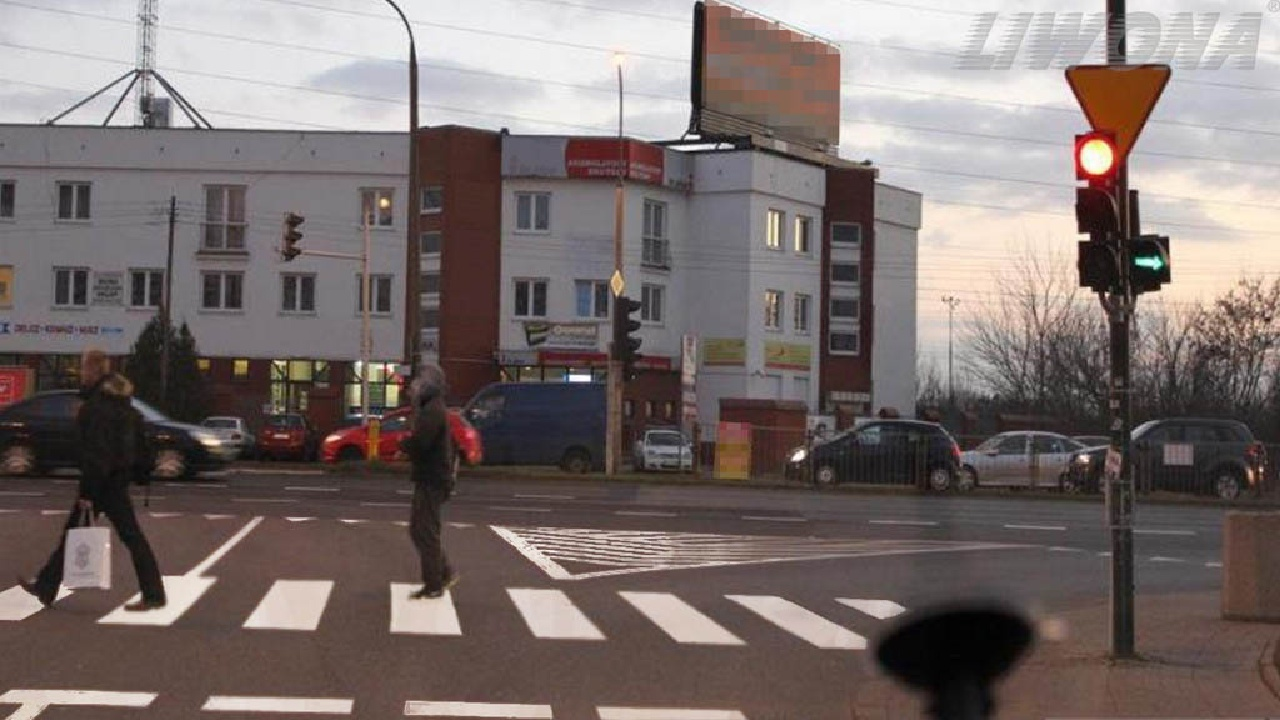A7: (1065, 61, 1173, 161)
Red: (1073, 131, 1119, 287)
